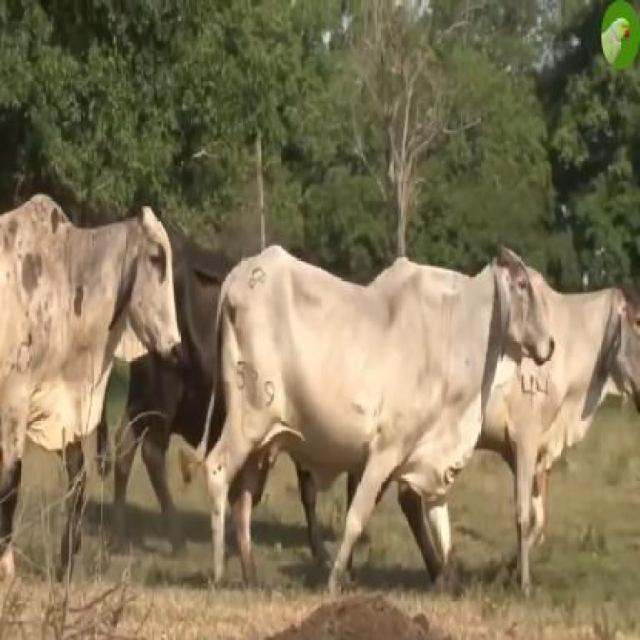Cow: (201, 243, 554, 592), (0, 194, 183, 583)
